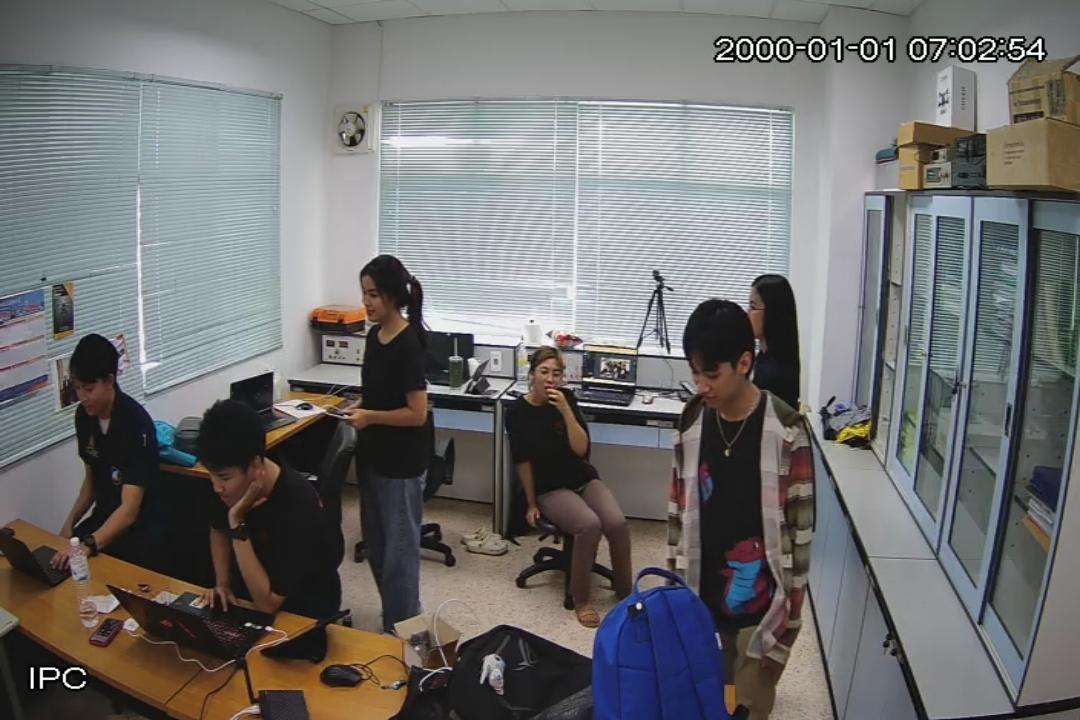normal: (669, 298, 807, 720), (499, 341, 644, 627), (196, 400, 342, 623), (353, 249, 434, 647), (51, 331, 163, 575)
